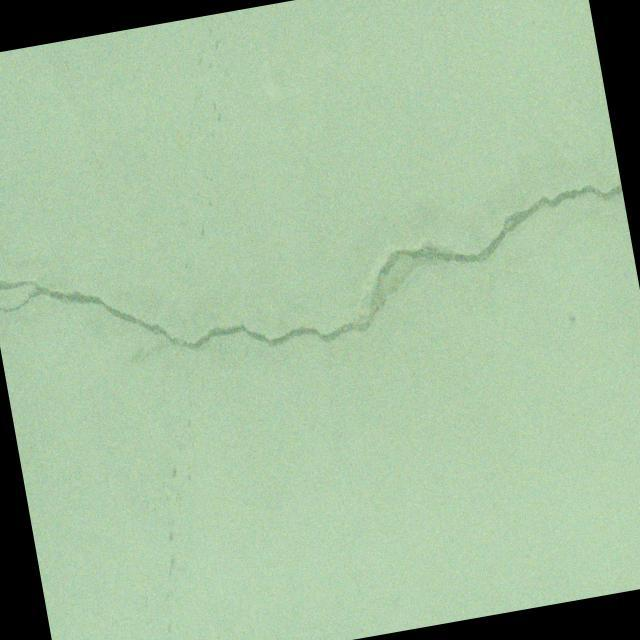crack: (0, 166, 639, 399)
